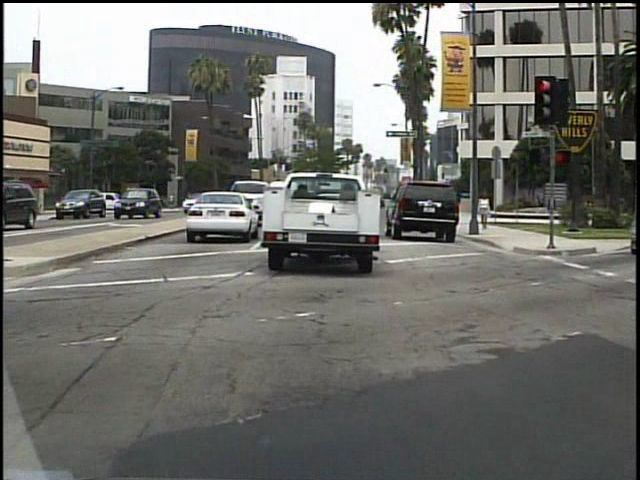person: (475, 188, 493, 236)
